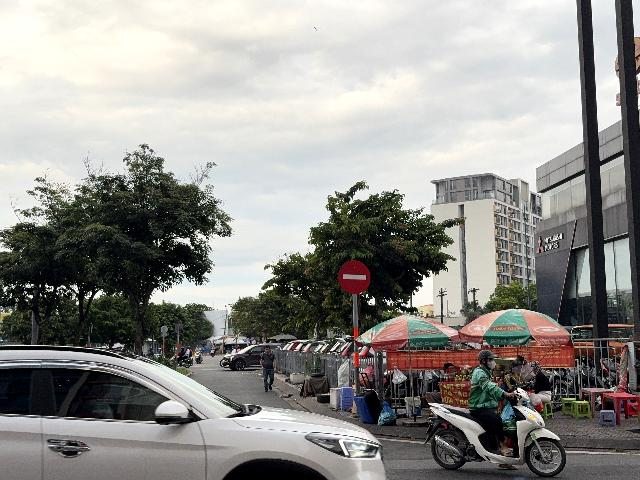cam-di-nguoc-chieu: (338, 260, 371, 294)
